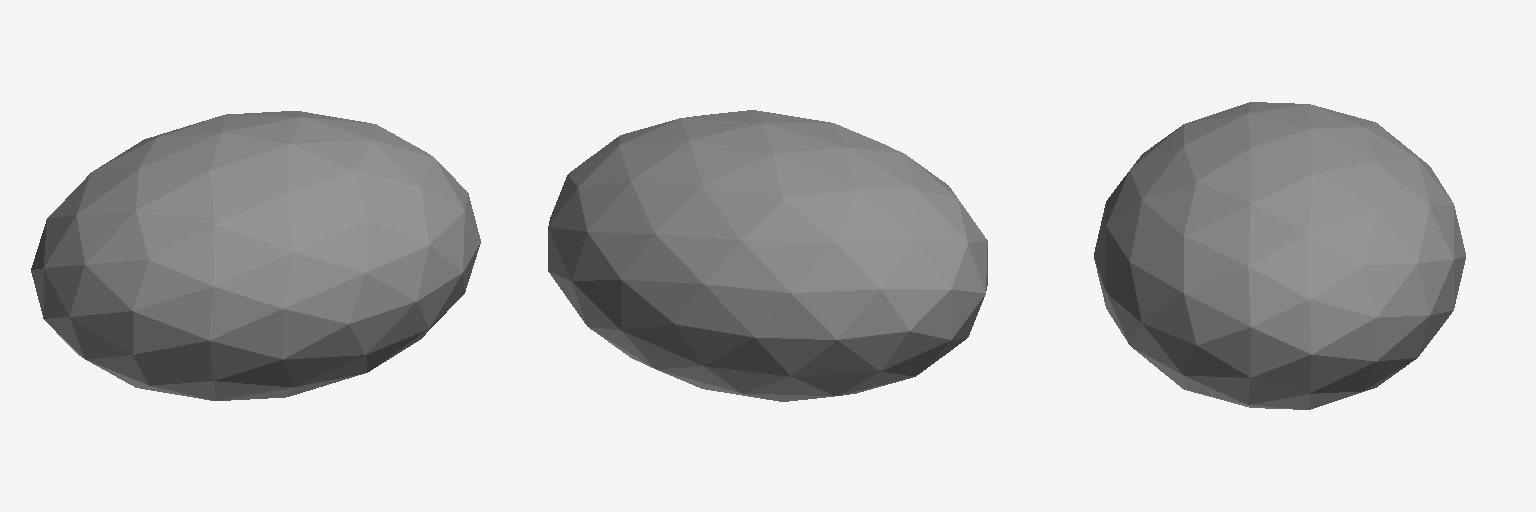
Rendered from Sentinel.obj.
3 views of the same model, side by side, from view 1: azimuth 30°, elevation 25°; view 2: azimuth 150°, elevation 25°; view 3: azimuth 270°, elevation 25° (orthographic).
Visible parts, largest first — view 1: __unnamed; view 2: __unnamed; view 3: __unnamed.
Boxes of the visible parts, x1=… form: __unnamed: x1=31, y1=111, x2=480, y2=400; __unnamed: x1=548, y1=110, x2=987, y2=401; __unnamed: x1=1094, y1=102, x2=1465, y2=409.
Bounding box in the file's own units: 97.39 × 54.19 × 77.82.